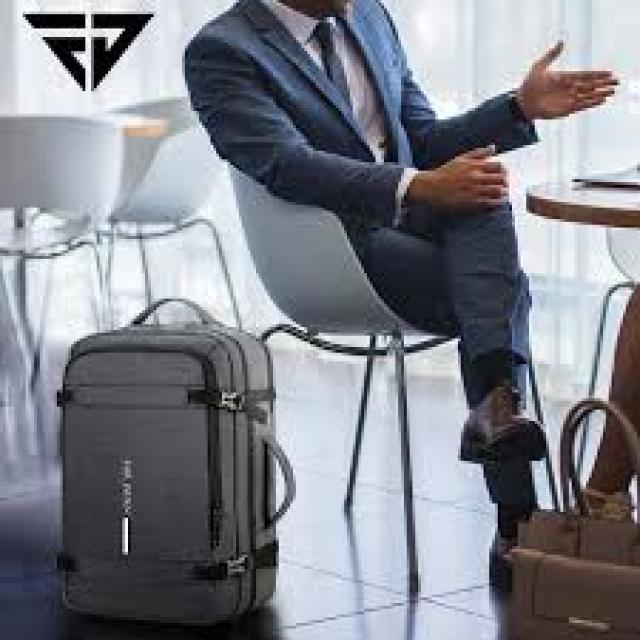backpack: (53, 299, 292, 640)
